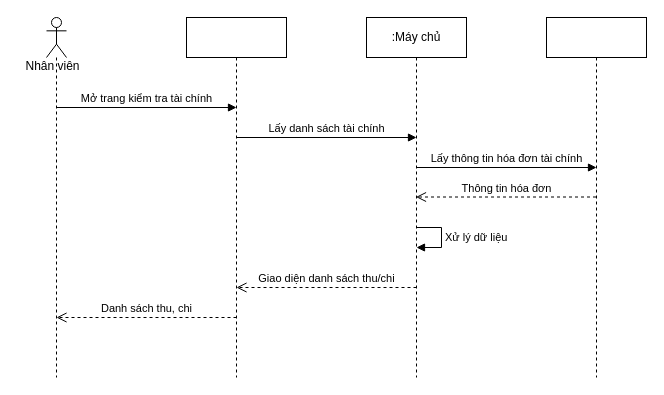
The diagram is 664 pixels wide and 395 high, and some of its shapes have lost their labels. Here are the shapes that lost their labels. From the top down, the box of each, then its label:
(186, 16, 286, 378): :Giao diện web
(546, 16, 646, 378): :Dữ liệu hóa đơn tài chính
